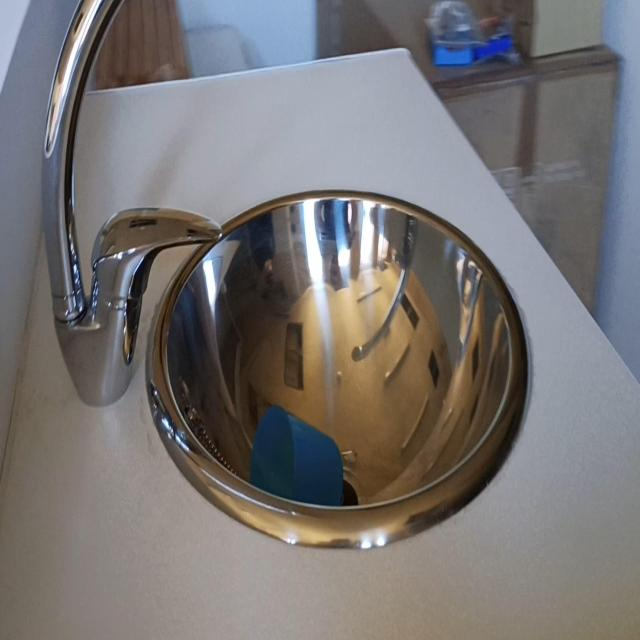cup: (247, 394, 347, 516)
